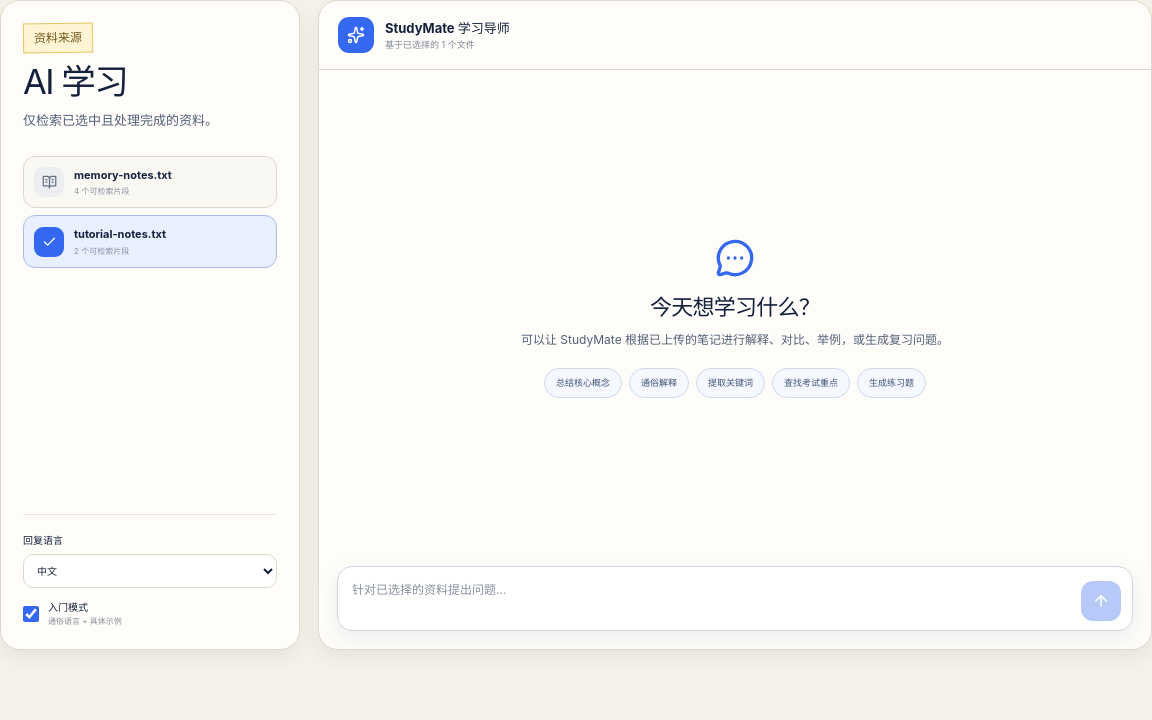
Test case: StudyPage › retries a failed question without losing its text
Expected: the text "tutorial-notes.txt" is shown, [74,226,166,243]
Type "Explain recursion" into the text box named "向 StudyMate 提问" at (710, 599), box [347,576,1072,621]
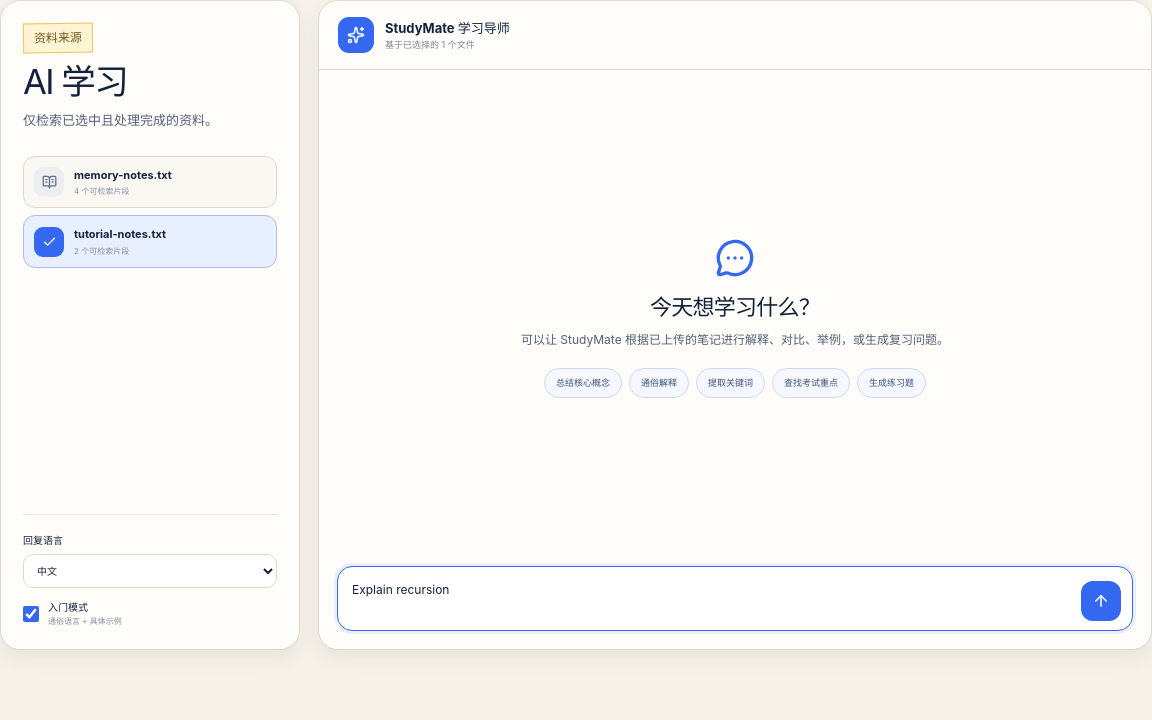
Click the button named "发送问题" at (1101, 601), box [1081,581,1121,621]
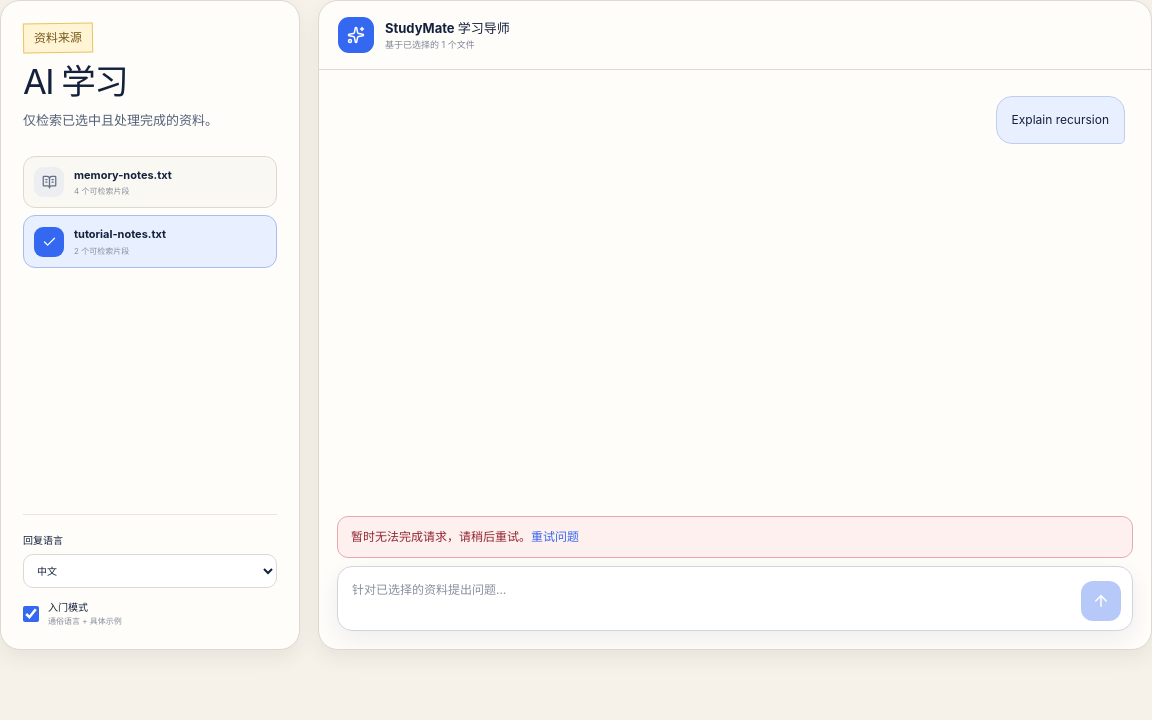
Click the button "重试问题" at (555, 537), box [531,528,579,546]
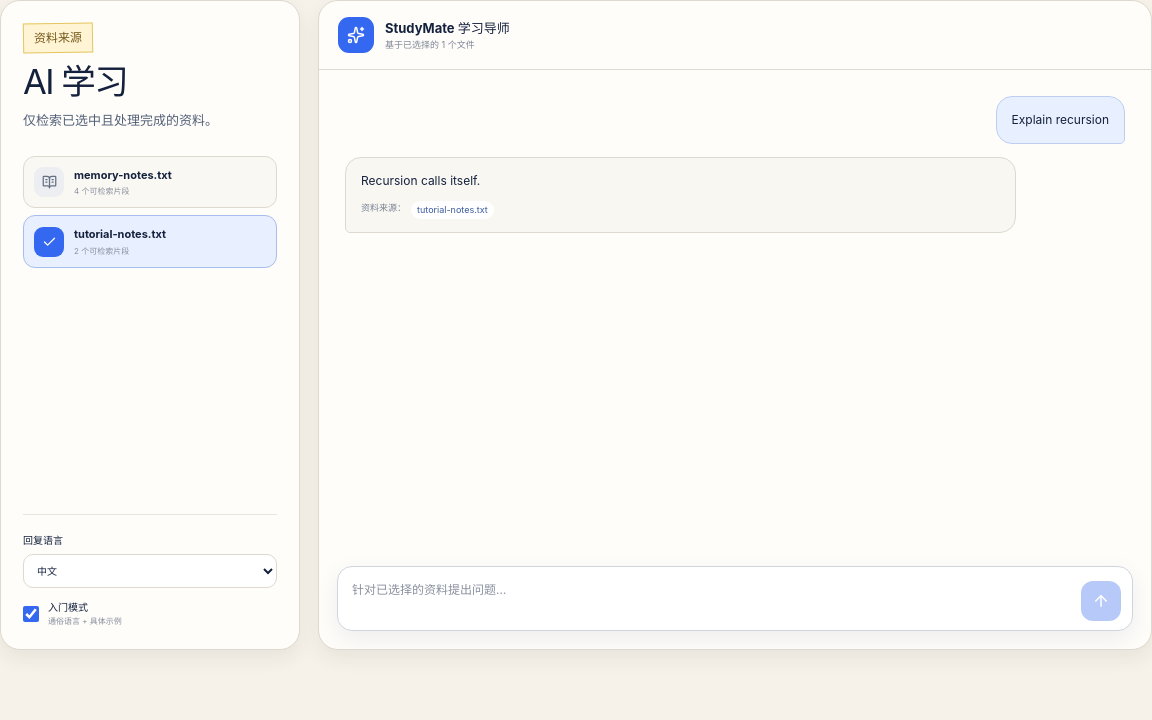
Expected: the text "Recursion calls itself." is shown, [361,173,480,188]
